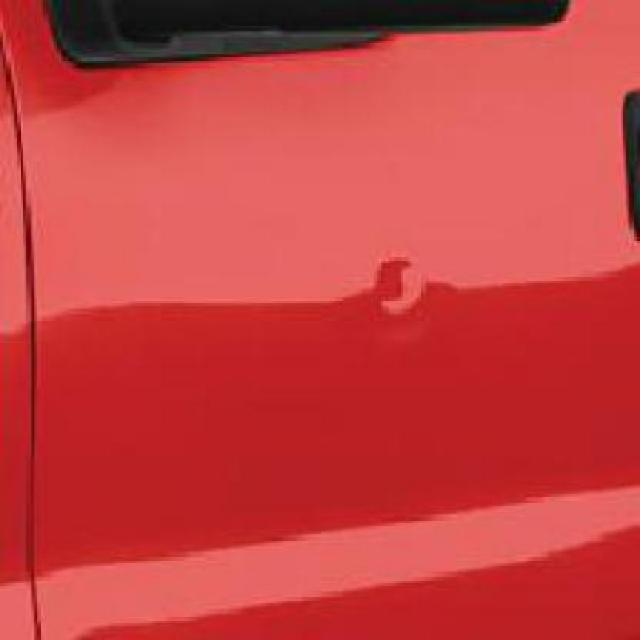dent-or-scratch: (367, 252, 438, 326)
